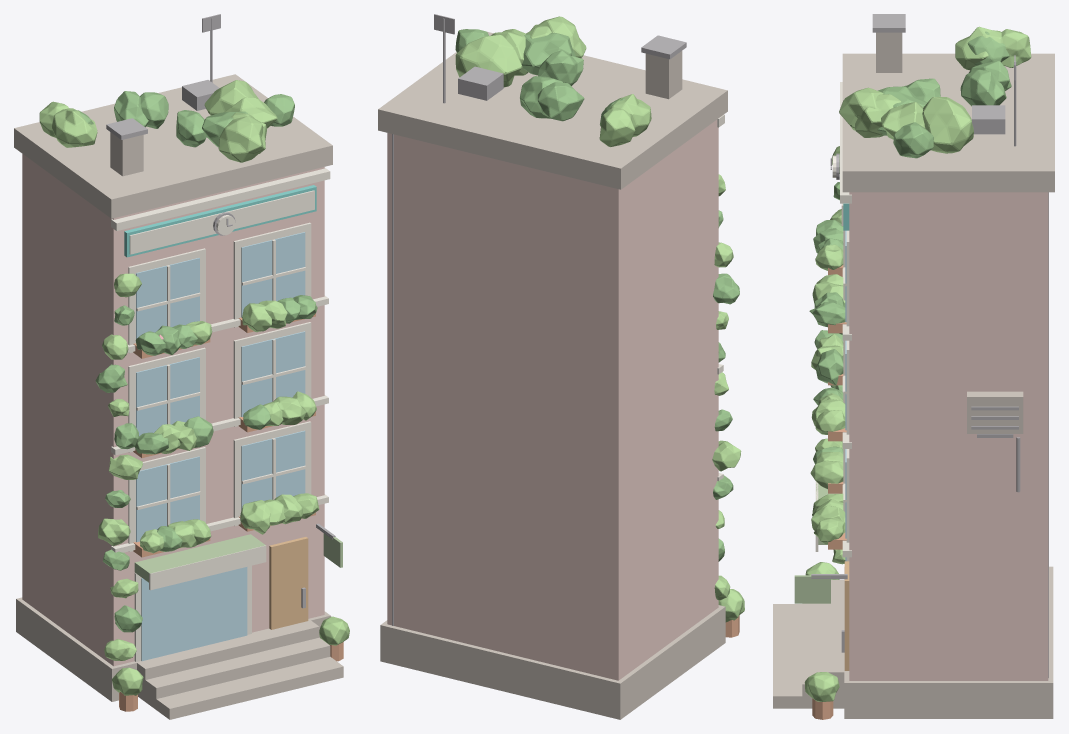
File: Shop_E.fbx
The picture shows the model from 3 angles, left to right: view 1: azimuth 30°, elevation 25°; view 2: azimuth 150°, elevation 25°; view 3: azimuth 270°, elevation 25°; orthographic projection. The views are drawn at different scales.
Visible parts, largest first — view 1: Shop_E, Shop_E_Veg; view 2: Shop_E, Shop_E_Veg; view 3: Shop_E, Shop_E_Veg.
Boxes of the visible parts, <box> form: Shop_E: <box>14,14,343,719</box>; Shop_E_Veg: <box>39,80,349,695</box>; Shop_E: <box>378,14,739,719</box>; Shop_E_Veg: <box>455,16,744,622</box>; Shop_E: <box>773,14,1054,719</box>; Shop_E_Veg: <box>804,26,1031,701</box>.
Bounding box in the file's own units: 4.55 × 10.6 × 4.25.
